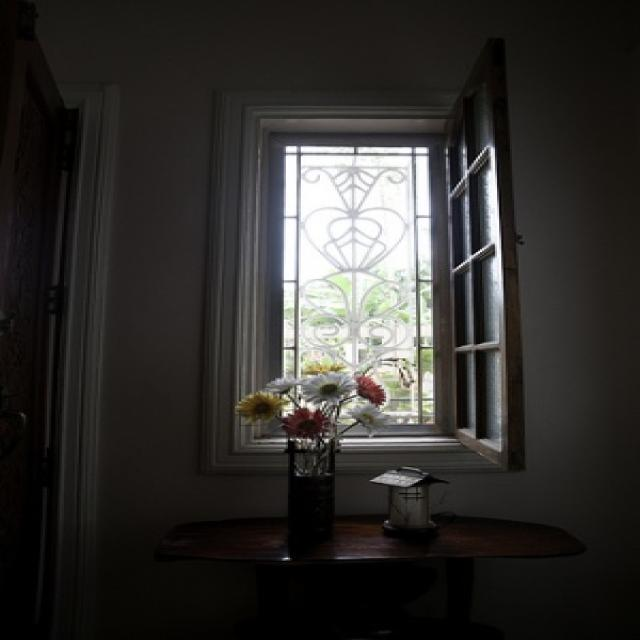Table: (175, 491, 623, 640)
